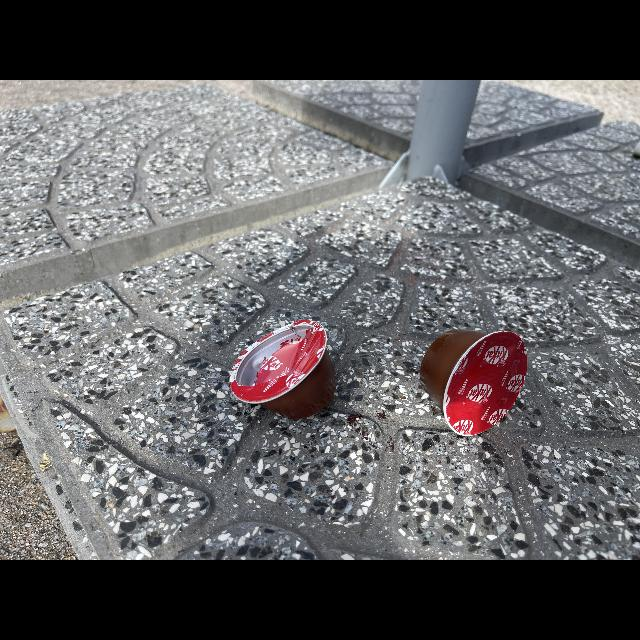damaged_capsule: (220, 304, 354, 426)
intact_capsule: (411, 322, 553, 442)
